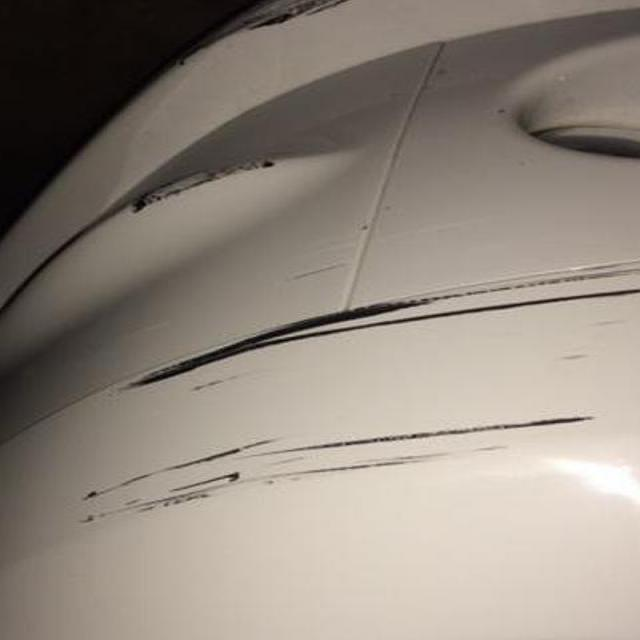scratch: (94, 247, 625, 538), (0, 135, 300, 324), (146, 0, 394, 71)
